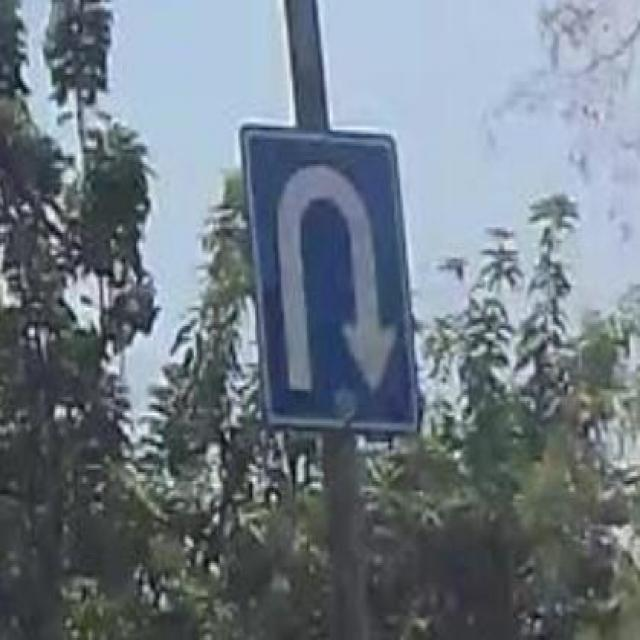traffic sign: (240, 122, 420, 440)
